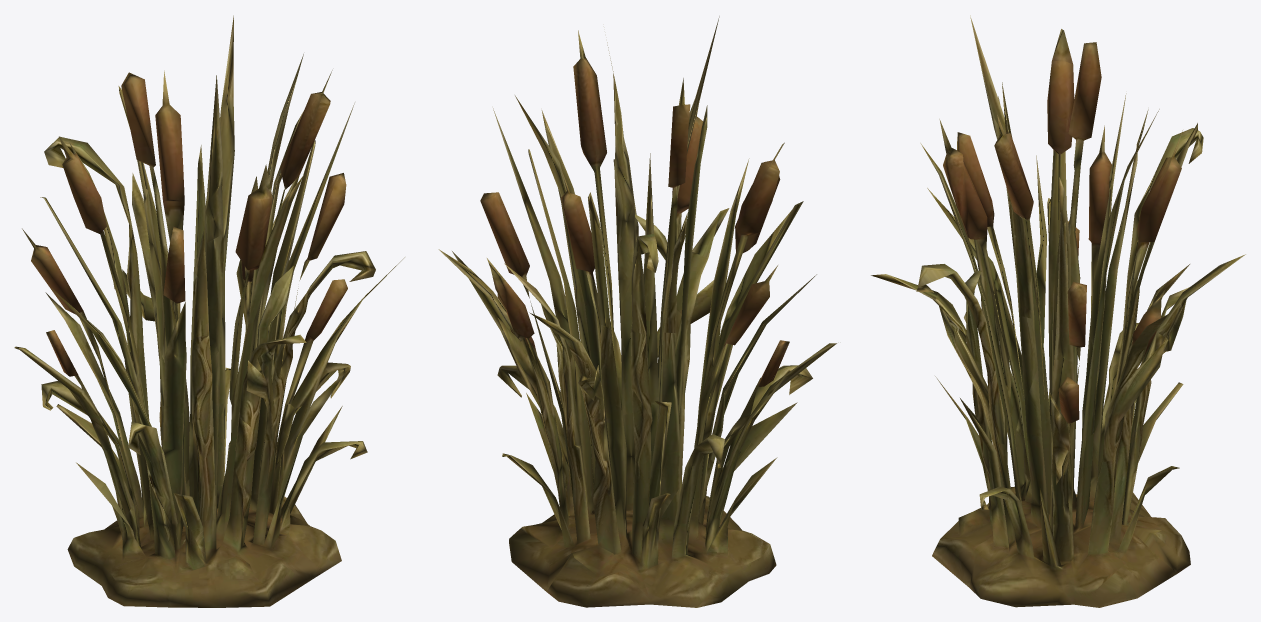
The model's file is marsh_reeds_far.glb.
The picture shows the model from 3 angles, left to right: view 1: azimuth 30°, elevation 25°; view 2: azimuth 150°, elevation 25°; view 3: azimuth 270°, elevation 25°; orthographic projection.
Visible parts, largest first — view 1: tripo_node_2b25e5c1-3bc7-45eb-a8ba-e1e4610b20b8; view 2: tripo_node_2b25e5c1-3bc7-45eb-a8ba-e1e4610b20b8; view 3: tripo_node_2b25e5c1-3bc7-45eb-a8ba-e1e4610b20b8.
Boxes of the visible parts, x1,y1,x2,y2 form: tripo_node_2b25e5c1-3bc7-45eb-a8ba-e1e4610b20b8: (14, 15, 404, 607); tripo_node_2b25e5c1-3bc7-45eb-a8ba-e1e4610b20b8: (438, 16, 836, 607); tripo_node_2b25e5c1-3bc7-45eb-a8ba-e1e4610b20b8: (871, 15, 1245, 607).
Bounding box in the file's own units: 0.7647 × 0.9771 × 0.6333.
Materials: 1 (1 with a texture image).
